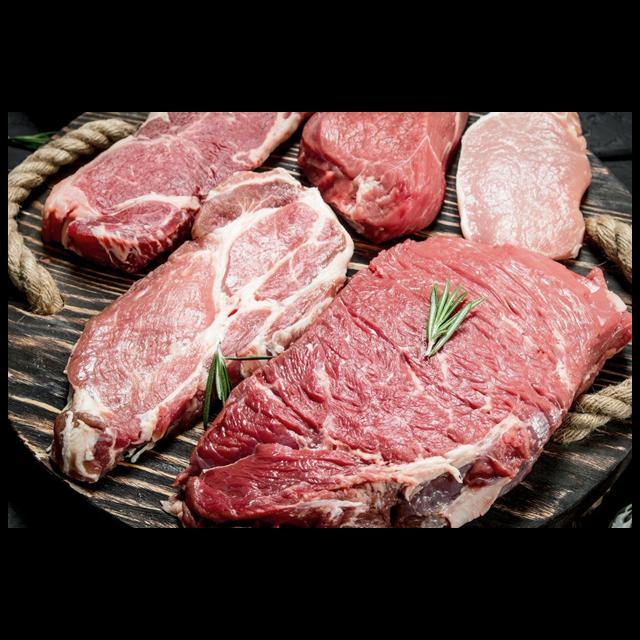beef: (156, 228, 631, 528), (45, 161, 354, 498), (44, 114, 309, 278), (283, 113, 470, 239)
